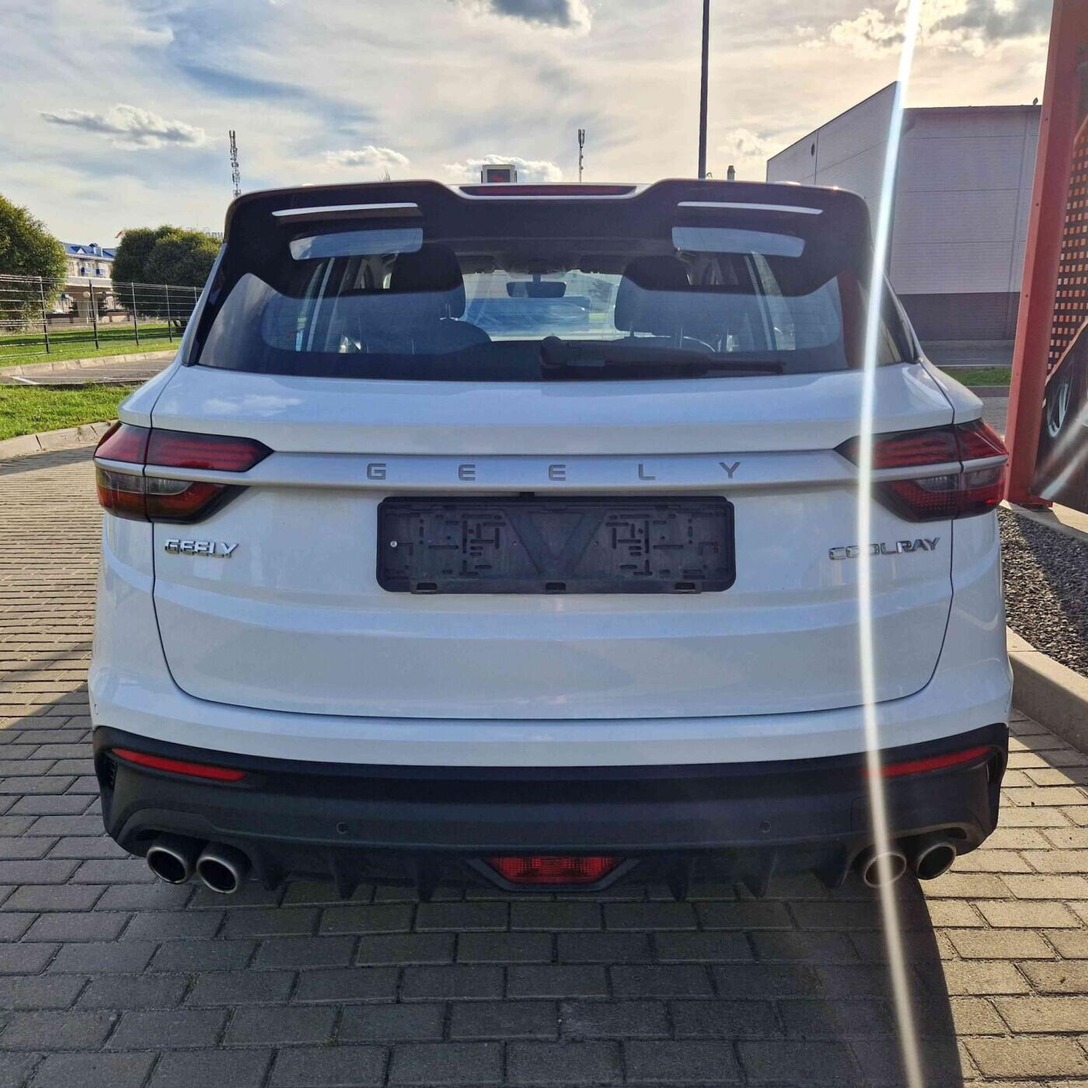Coolray_2019-2023: (82, 168, 1024, 912)
